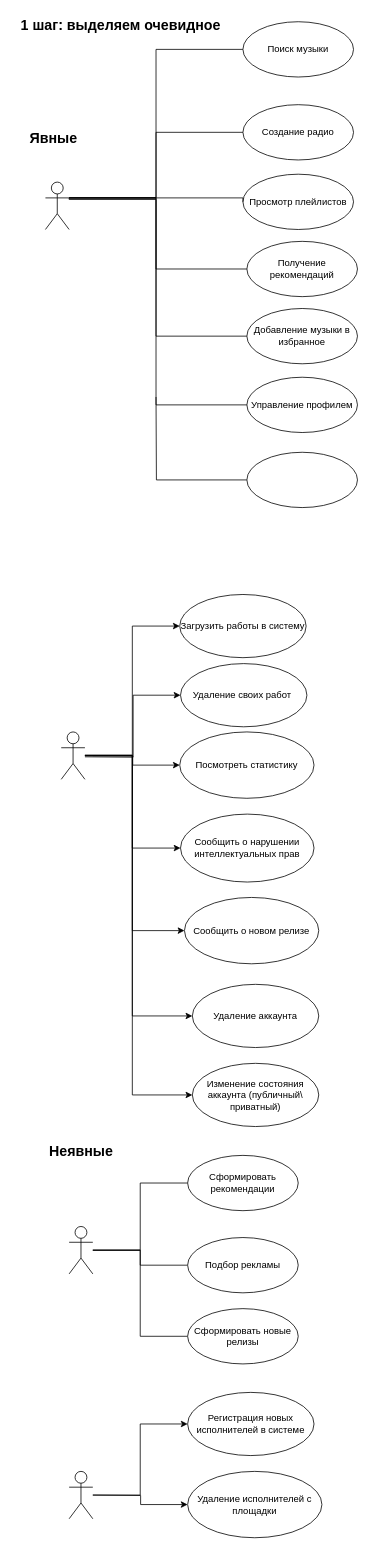
Some shapes in this 371 by 1552 pixel diagram are drawn without their labels. The shapes that lost their labels are listed below. From the top down, each one's centre as x and y in pixels, then its label:
point (57, 205): Пользователь
point (301, 479): Редактирование профиля
point (72, 755): Артист
point (80, 1250): Система
point (80, 1495): Модератор
